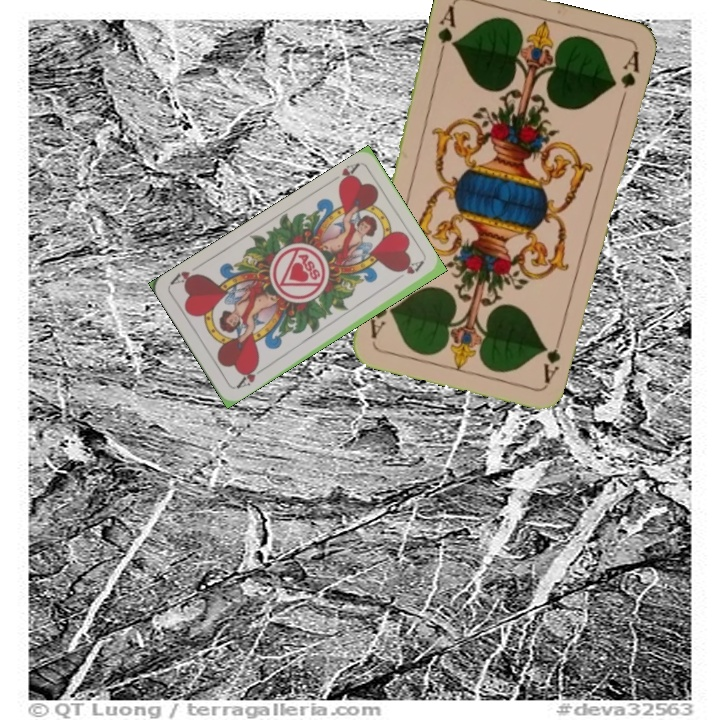GA: (433, 1, 458, 60), (540, 327, 565, 385)
HA: (232, 360, 267, 392), (334, 159, 362, 190)
